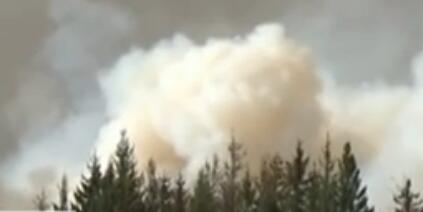smoke: (0, 1, 423, 190)
